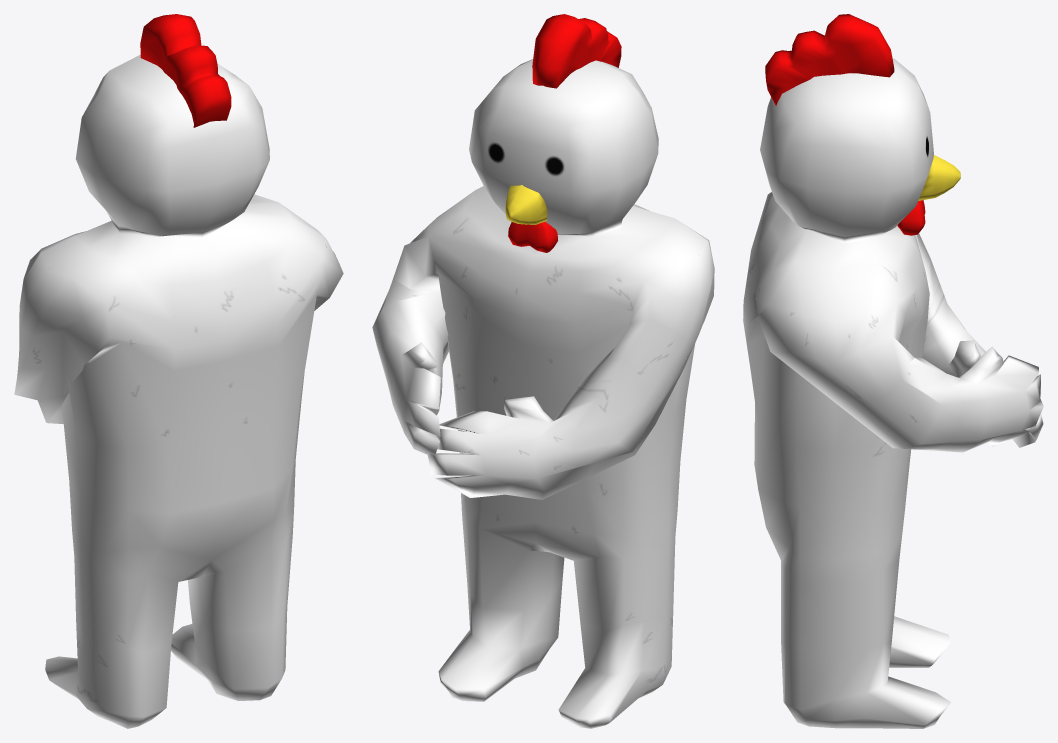
The model's file is Genepool_Chicken_Pose.fbx.
The picture shows the model from 3 angles, left to right: view 1: azimuth 30°, elevation 25°; view 2: azimuth 150°, elevation 25°; view 3: azimuth 270°, elevation 25°; orthographic projection. The views are drawn at different scales.
Parts seen in each view (by area): view 1: polySurface9; view 2: polySurface9; view 3: polySurface9.
Boxes of the visible parts, x1,y1,x2,y2 form: polySurface9: (14,14,343,728); polySurface9: (372,14,714,728); polySurface9: (743,14,1043,728).
Bounding box in the file's own units: 19.42 × 42.38 × 17.15.
